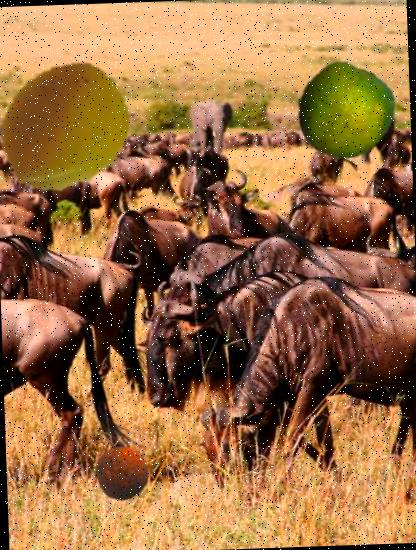Limes: (295, 62, 396, 162)
Peach: (0, 56, 136, 199)
Walnut: (94, 444, 151, 501)
